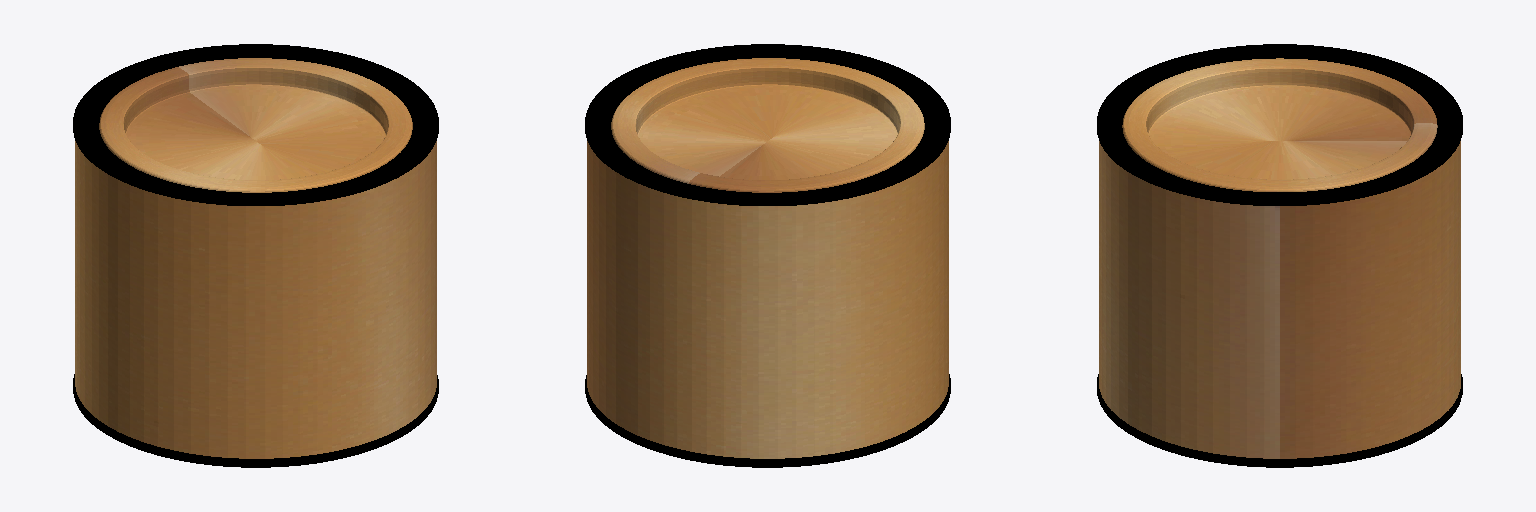
3 renders of one model, left to right at view 1: azimuth 30°, elevation 25°; view 2: azimuth 150°, elevation 25°; view 3: azimuth 270°, elevation 25°, orthographic.
Visible parts, largest first — view 1: Obj_000015, Obj_000017, Obj_000016, Obj_000014; view 2: Obj_000015, Obj_000017, Obj_000016, Obj_000014; view 3: Obj_000015, Obj_000017, Obj_000016, Obj_000014.
Part boxes in pixels (x1,y1,x2,y2): Obj_000015: (75, 141, 436, 458); Obj_000017: (99, 58, 412, 192); Obj_000016: (73, 44, 438, 205); Obj_000014: (73, 374, 438, 467); Obj_000015: (587, 141, 948, 458); Obj_000017: (611, 58, 924, 192); Obj_000016: (585, 44, 950, 205); Obj_000014: (585, 374, 950, 467); Obj_000015: (1099, 141, 1460, 458); Obj_000017: (1122, 58, 1437, 191); Obj_000016: (1097, 44, 1462, 205); Obj_000014: (1097, 374, 1462, 467).
Size of the model in its own units: 97.79 by 79.52 by 97.92.
2 materials, 1 textured.